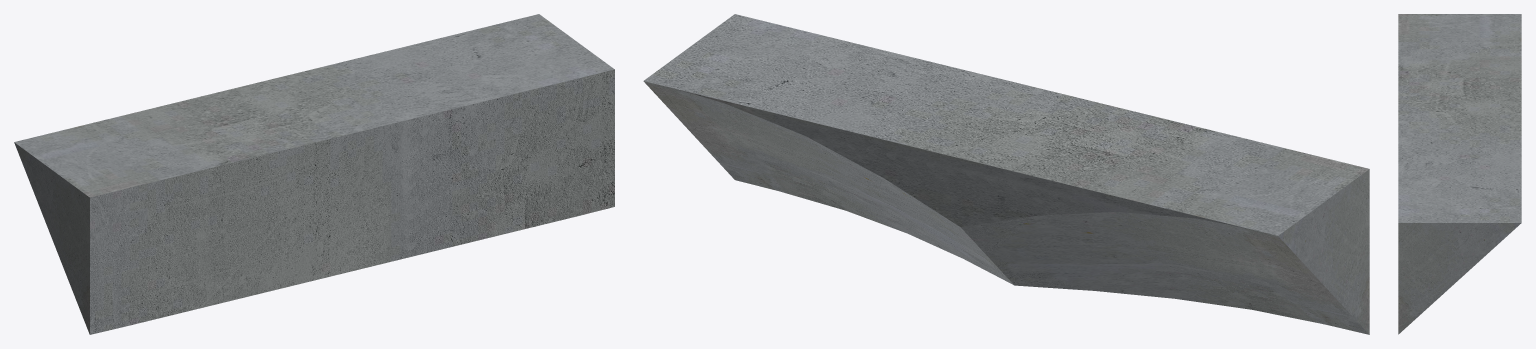
File: module_B.fbx
3 views of the same model, side by side, from view 1: azimuth 30°, elevation 25°; view 2: azimuth 150°, elevation 25°; view 3: azimuth 270°, elevation 25° (orthographic). The views are drawn at different scales.
Visible parts, largest first — view 1: modules; view 2: modules; view 3: modules.
Boxes of the visible parts, x1=… form: modules: x1=14, y1=14, x2=614, y2=334; modules: x1=643, y1=14, x2=1369, y2=334; modules: x1=1398, y1=14, x2=1521, y2=334.
Bounding box in the file's own units: 1000 × 250 × 251.
1 material, 1 textured.
